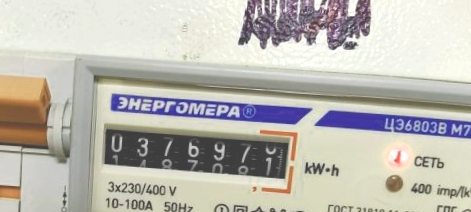0: (107, 130, 124, 152)
1: (262, 154, 274, 176)
3: (134, 134, 149, 158)
6: (186, 135, 200, 157)
7: (160, 133, 174, 158), (237, 140, 251, 164)
9: (211, 138, 225, 161)
screen: (93, 115, 300, 197)
